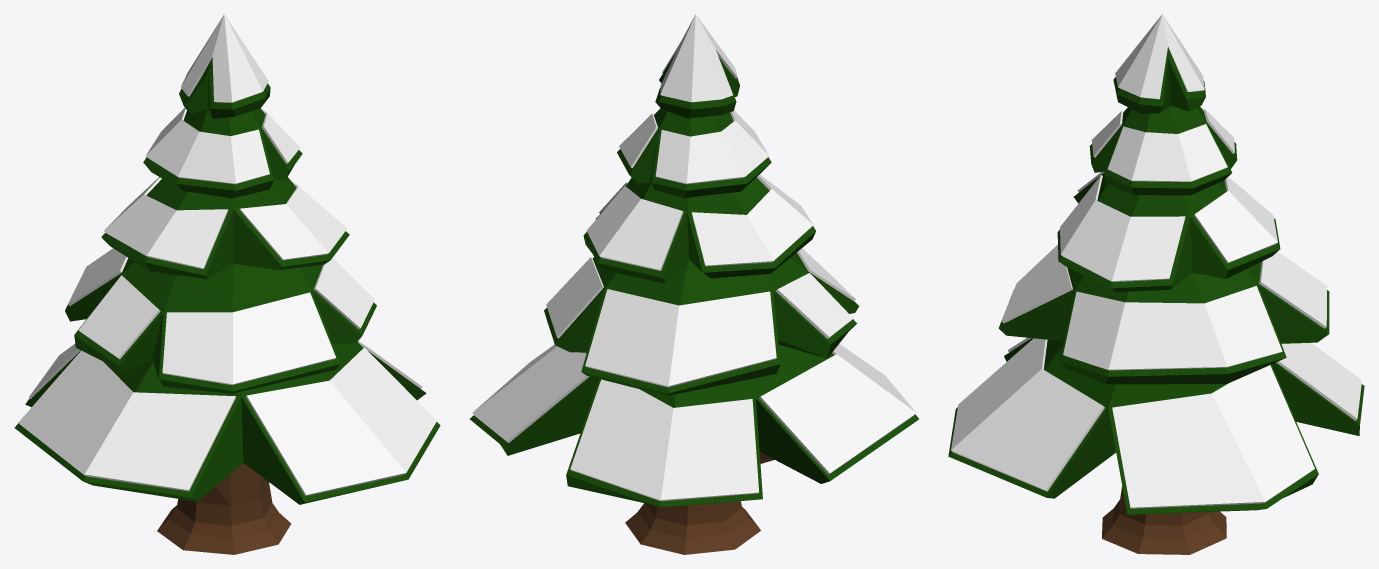
Rendered from pino_nieve_1.fbx.
The picture shows the model from 3 angles, left to right: view 1: azimuth 30°, elevation 25°; view 2: azimuth 150°, elevation 25°; view 3: azimuth 270°, elevation 25°; orthographic projection.
Visible parts, largest first — view 1: pinoNieve1:Mesh; view 2: pinoNieve1:Mesh; view 3: pinoNieve1:Mesh.
Boxes of the visible parts, bbox=[...] form: pinoNieve1:Mesh: bbox=[14, 14, 440, 554]; pinoNieve1:Mesh: bbox=[470, 14, 918, 554]; pinoNieve1:Mesh: bbox=[948, 14, 1364, 554].
Size of the model in its own units: 113 by 151 by 111.
Materials: 1 (1 with a texture image).
